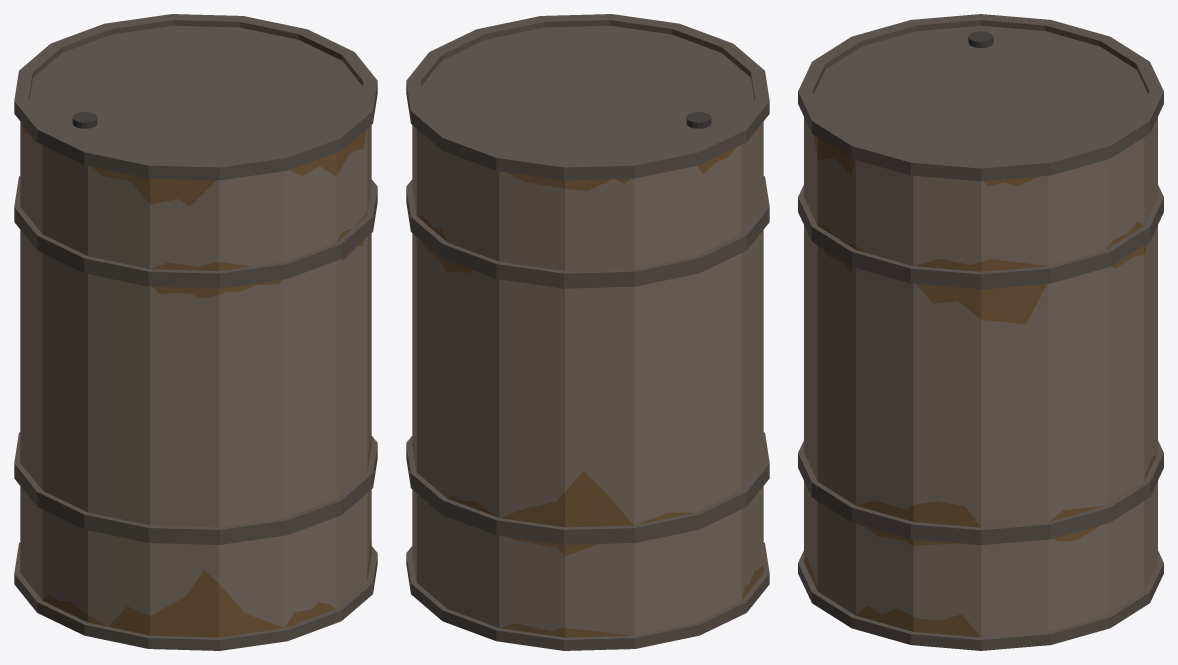
The model's file is Mesh_Props_Barrel_01.FBX.
3 views of the same model, side by side, from view 1: azimuth 30°, elevation 25°; view 2: azimuth 150°, elevation 25°; view 3: azimuth 270°, elevation 25° (orthographic).
Parts seen in each view (by area): view 1: Mesh_Props_Barrel_01; view 2: Mesh_Props_Barrel_01; view 3: Mesh_Props_Barrel_01.
Part boxes in pixels (<box>): Mesh_Props_Barrel_01: <box>14,14,377,650</box>; Mesh_Props_Barrel_01: <box>406,14,769,650</box>; Mesh_Props_Barrel_01: <box>798,14,1163,650</box>.
Size of what is drawn, in the model's own units: 60.96 by 60.96 by 88.75.
